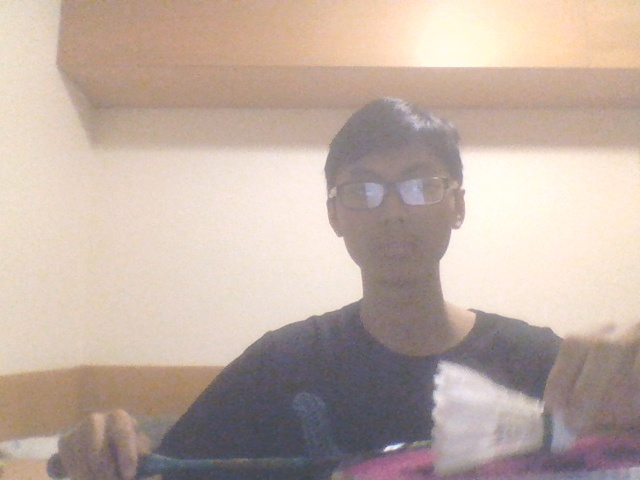human: (58, 99, 640, 480)
racket: (47, 439, 640, 480)
shuttle: (430, 361, 578, 477)
